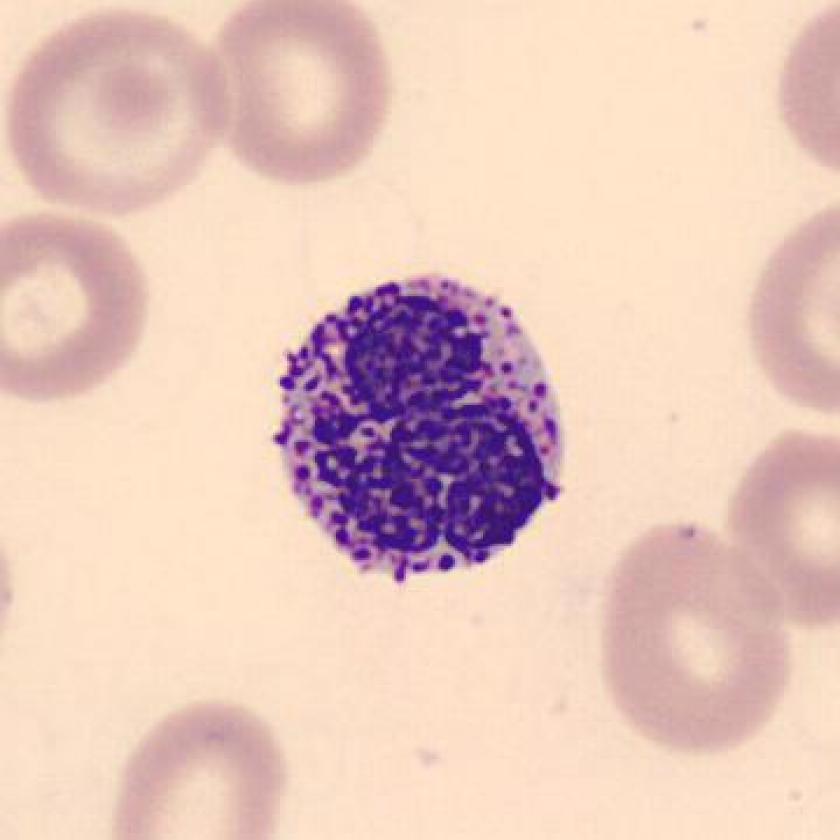basophil: (255, 267, 594, 605)
